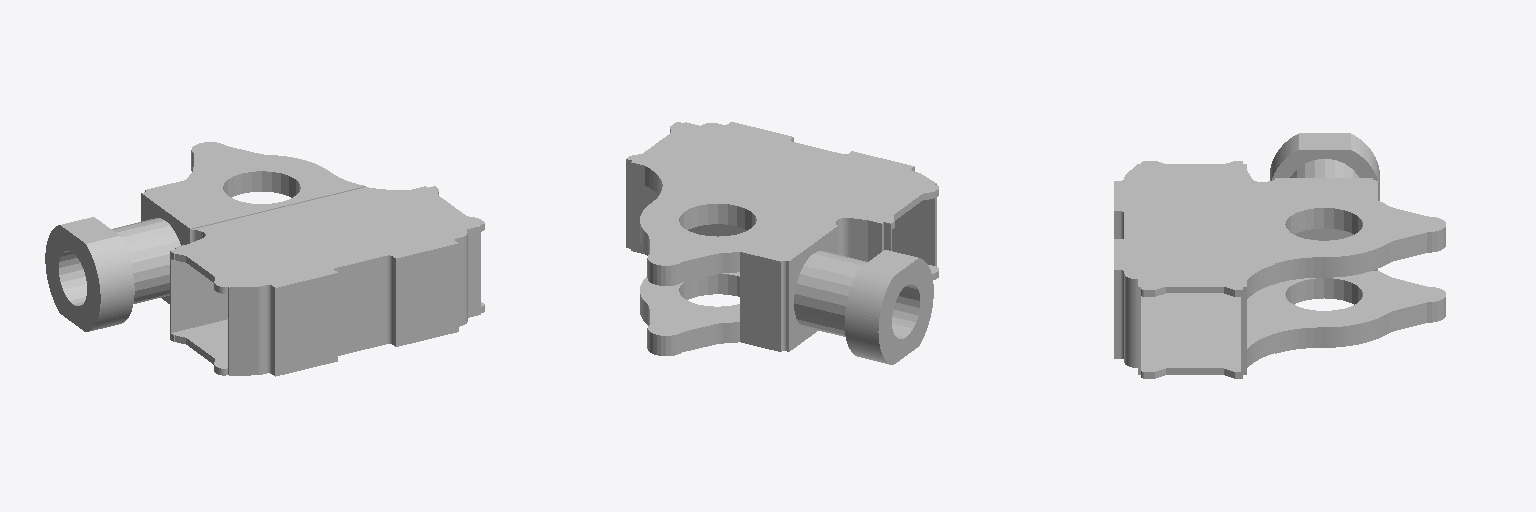
Rendered from 03_Krzyzulec.obj.
3 renders of one model, left to right at view 1: azimuth 30°, elevation 25°; view 2: azimuth 150°, elevation 25°; view 3: azimuth 270°, elevation 25°, orthographic.
Parts seen in each view (by area): view 1: obj1, obj5, obj4, obj2, obj6; view 2: obj1, obj5, obj4, obj2, obj6, obj3; view 3: obj1, obj5, obj3, obj2, obj4.
Part boxes in pixels (left/top/right/bottom): obj1: left=141, top=142, right=484, bottom=376; obj5: left=45, top=217, right=134, bottom=331; obj4: left=112, top=218, right=180, bottom=303; obj2: left=223, top=171, right=300, bottom=197; obj6: left=59, top=251, right=86, bottom=305; obj1: left=626, top=122, right=938, bottom=355; obj5: left=845, top=250, right=933, bottom=364; obj4: left=794, top=251, right=866, bottom=336; obj2: left=679, top=204, right=756, bottom=229; obj6: left=892, top=284, right=919, bottom=338; obj3: left=679, top=274, right=739, bottom=299; obj1: left=1114, top=161, right=1445, bottom=378; obj5: left=1270, top=133, right=1379, bottom=200; obj3: left=1285, top=278, right=1362, bottom=304; obj2: left=1285, top=208, right=1362, bottom=234; obj4: left=1290, top=159, right=1358, bottom=177.
Bounding box in the file's own units: 27.18 × 7.32 × 24.37.